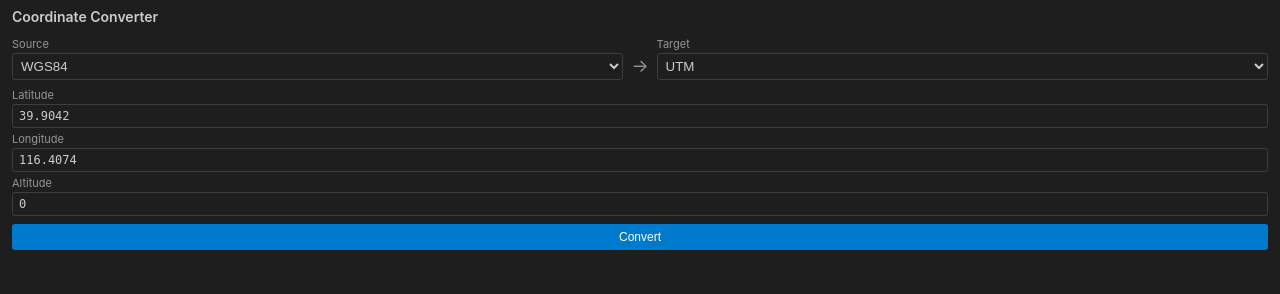
it: GisToolsPanel › shows error for invalid (NaN) coordinate input
Replace the text in the field showing "39.9042" with "not-a-number". click: (640, 116)
box: x1=12 y1=104 x2=1268 y2=128
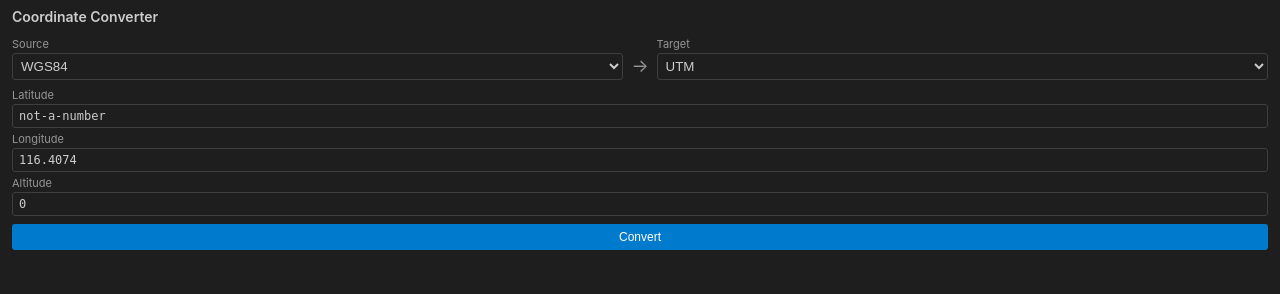
Click the button "Convert". click: (640, 237)
box: x1=12 y1=224 x2=1268 y2=250
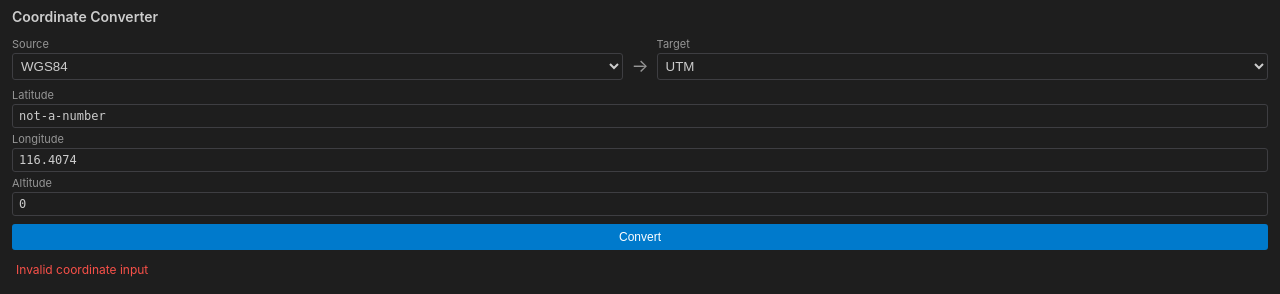
Now the text "Invalid coordinate input" is shown, box x1=16 y1=262 x2=148 y2=277
